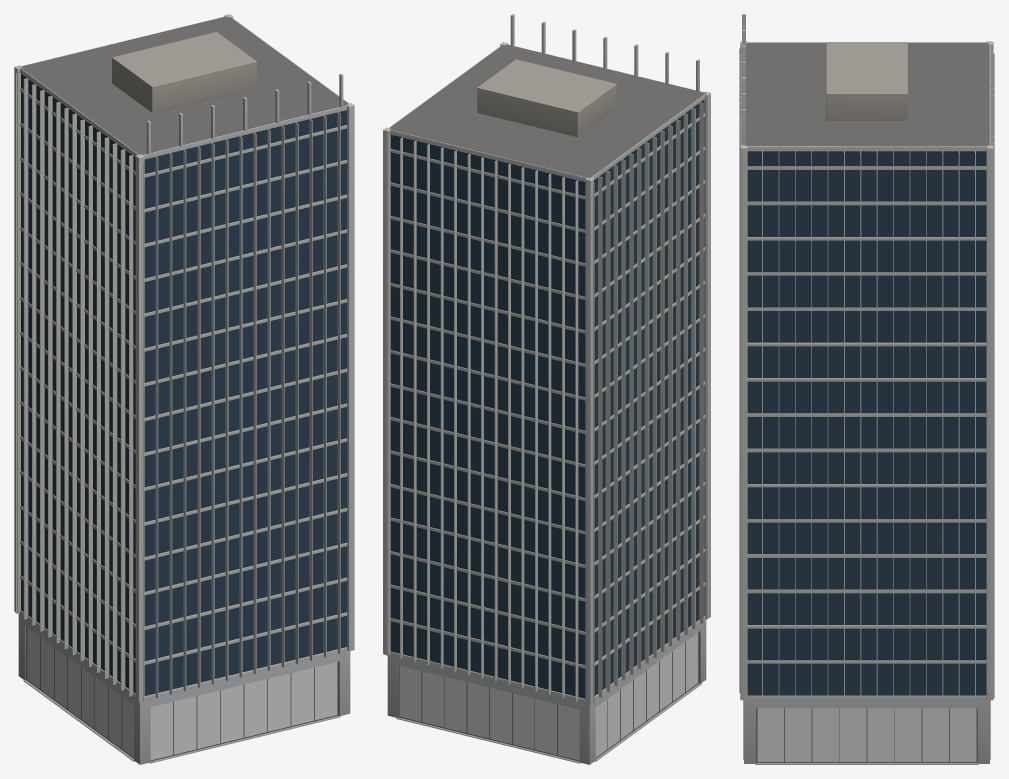
File: OfficeTowerMIA.fbx
3 renders of one model, left to right at view 1: azimuth 30°, elevation 25°; view 2: azimuth 150°, elevation 25°; view 3: azimuth 270°, elevation 25°, orthographic. The views are drawn at different scales.
Parts seen in each view (by area): view 1: OfficeTowerMIA; view 2: OfficeTowerMIA; view 3: OfficeTowerMIA.
Part boxes in pixels (x1=…): OfficeTowerMIA: x1=14, y1=14, x2=354, y2=764; OfficeTowerMIA: x1=383, y1=14, x2=710, y2=764; OfficeTowerMIA: x1=739, y1=14, x2=994, y2=764.
Bounding box in the file's own units: 24.9 × 70.07 × 24.9.
